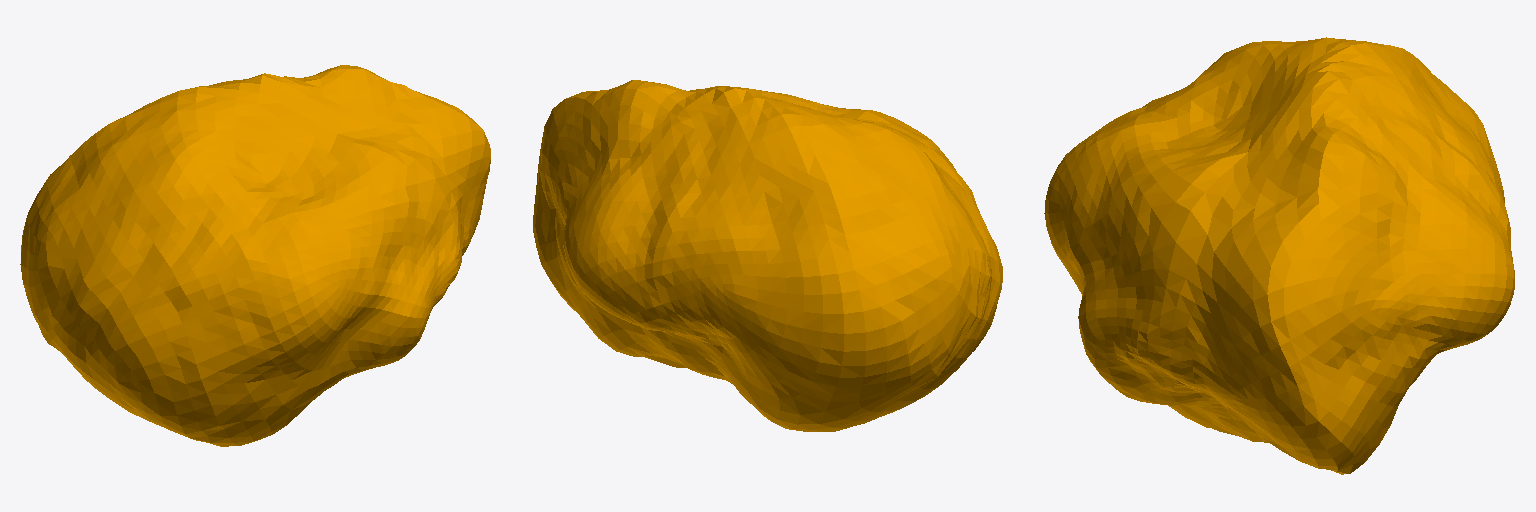
URDF robot description (rock):
<?xml version="1.0" ?>
<robot name="rock">
  <link name="rock">
    <inertial>
      <mass value="0.247"/>
      <origin rpy="0 0 0" xyz="0 0 0"/>
      <inertia ixx="0.000247" ixy="0" ixz="0" iyy="0.000247" iyz="0" izz="0.000247"/>
    </inertial>
    <collision name="rock_collision">
      <origin rpy="0 0 0" xyz="0 0 0"/>
      <geometry>
        <mesh filename="package://rocks/visual/85.dae" scale="1 1 1"/>
      </geometry>
    </collision>
    <visual name="rock_visual">
      <origin rpy="0 0 0" xyz="0 0 0"/>
      <geometry>
        <mesh filename="package://rocks/visual/85.dae" scale="1 1 1"/>
      </geometry>
    </visual>
  </link>
</robot>

--- Facts derived from the render (not from the file) ---
Views: 3 orthographic renders of the robot side by side, from view 1: azimuth 30°, elevation 25°; view 2: azimuth 150°, elevation 25°; view 3: azimuth 270°, elevation 25°.
Robot: rock — 1 links, 0 joints (none); root link rock; default pose: every joint at zero.
Visible links, largest first — view 1: rock; view 2: rock; view 3: rock.
Boxes of the visible links, left/top/right/bottom form: rock: left=20, top=65, right=490, bottom=446; rock: left=533, top=80, right=1002, bottom=431; rock: left=1044, top=37, right=1514, bottom=474.
Size in the robot's own frame: 0.0826 by 0.0638 by 0.0577 metres.
Meshes: 1 distinct files referenced, 1 mesh visuals loaded (1 Collada DAE).